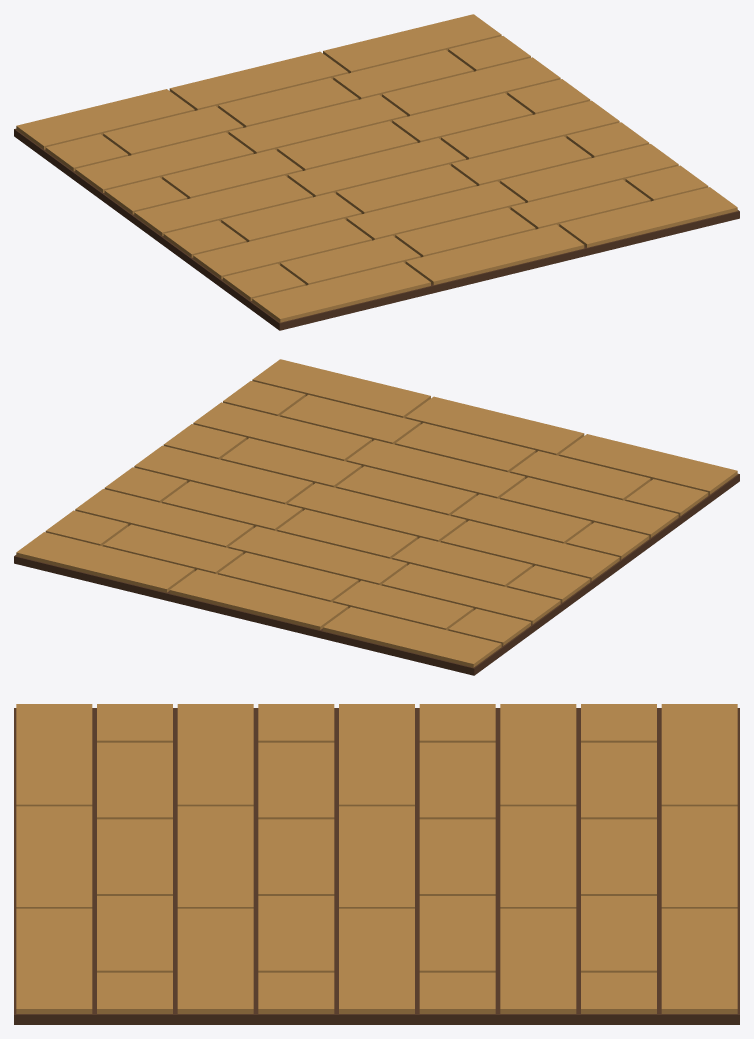
The model's file is SM_LPI_Floor_PlankOak_03.fbx.
The picture shows the model from 3 angles, top to bottom: view 1: azimuth 30°, elevation 25°; view 2: azimuth 150°, elevation 25°; view 3: azimuth 270°, elevation 25°; orthographic projection. The views are drawn at different scales.
Visible parts, largest first — view 1: SM_LPI_Floor_PlankOak_03; view 2: SM_LPI_Floor_PlankOak_03; view 3: SM_LPI_Floor_PlankOak_03.
Part boxes in pixels (x1,y1,x2,y2): SM_LPI_Floor_PlankOak_03: (14, 14, 739, 330); SM_LPI_Floor_PlankOak_03: (14, 359, 739, 675); SM_LPI_Floor_PlankOak_03: (14, 704, 739, 1024).
Bounding box in the file's own units: 2 × 0.045 × 2.
